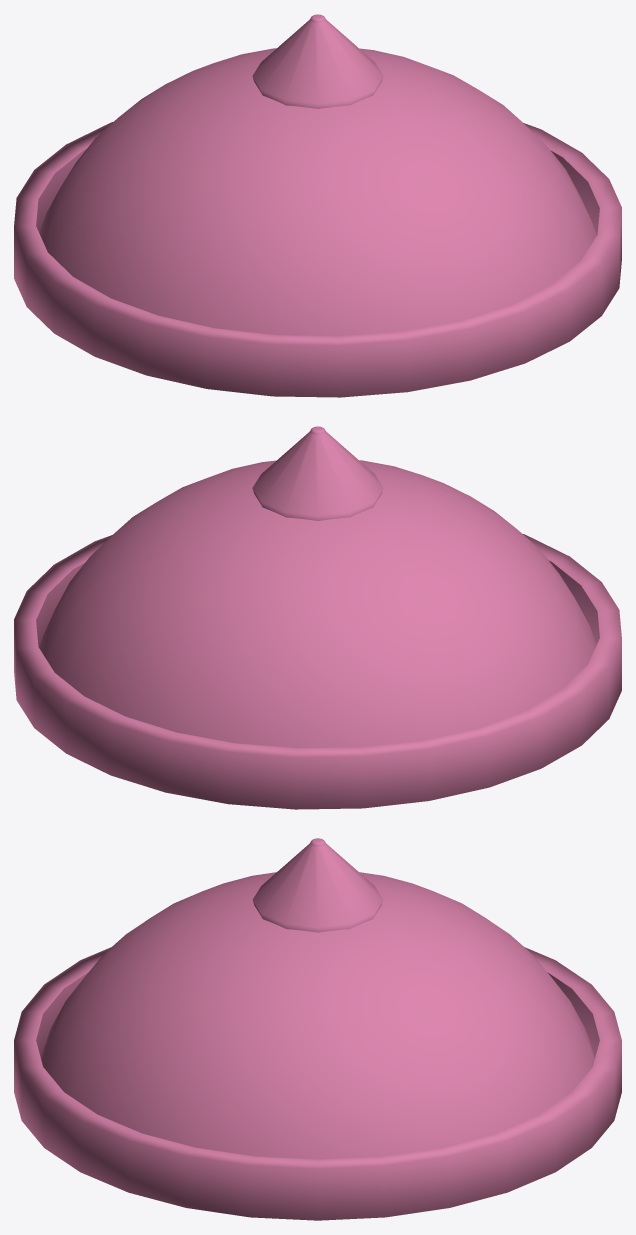
Rendered from acorn_knit_cap.glb.
3 views of the same model, one above another, from view 1: azimuth 30°, elevation 25°; view 2: azimuth 150°, elevation 25°; view 3: azimuth 270°, elevation 25° (orthographic).
Parts seen in each view (by area): view 1: acorn_knit_cap_Head; view 2: acorn_knit_cap_Head; view 3: acorn_knit_cap_Head.
Boxes of the visible parts, left/top/right/bottom form: acorn_knit_cap_Head: left=14, top=14, right=621, bottom=397; acorn_knit_cap_Head: left=14, top=426, right=621, bottom=809; acorn_knit_cap_Head: left=14, top=838, right=621, bottom=1220.
Bounding box in the file's own units: 0.744 × 0.34 × 0.744.
